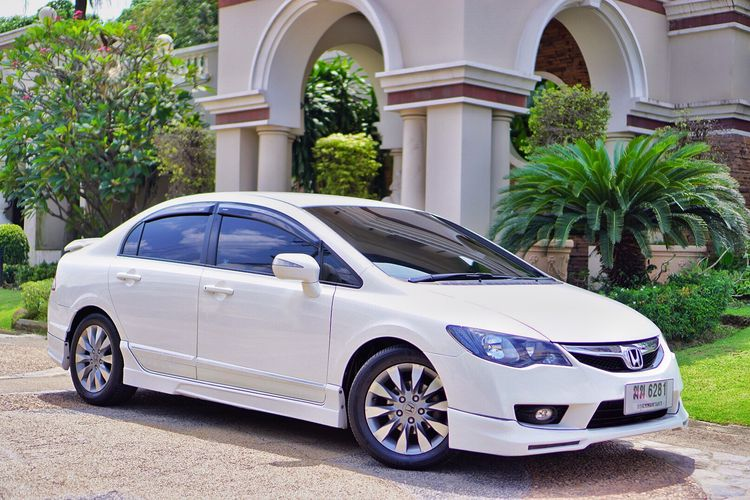sedan: (41, 188, 692, 469)
